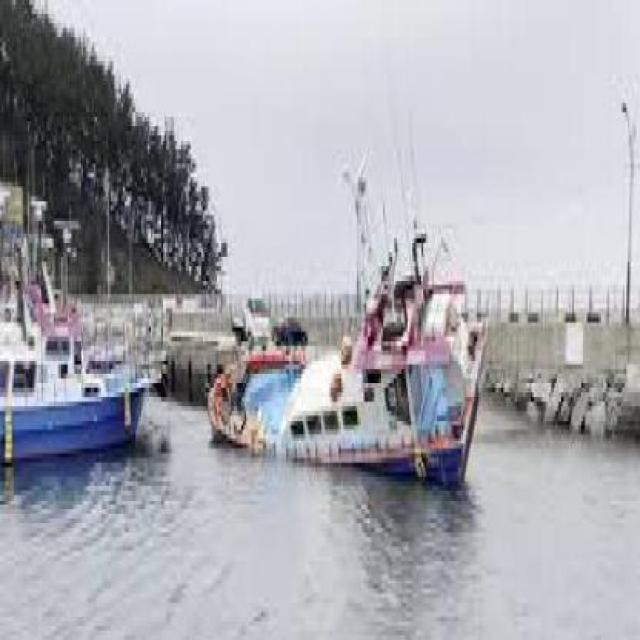fish-b: (202, 226, 499, 510), (1, 286, 178, 497)
